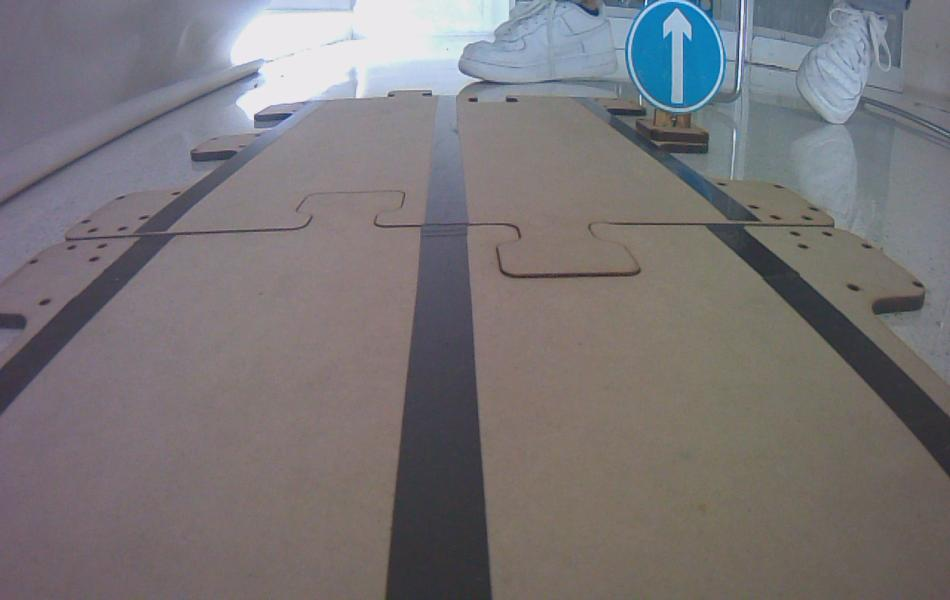straight: (620, 0, 731, 112)
